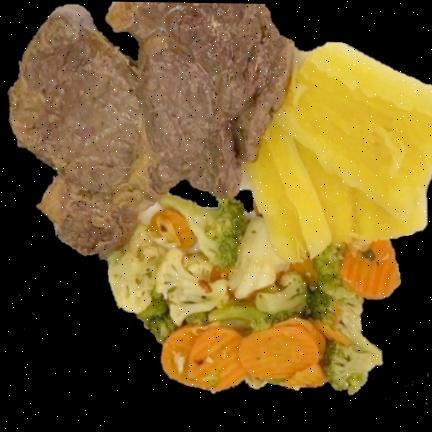broccoli: (202, 241, 387, 393), (156, 191, 250, 270)
carrot: (161, 318, 347, 392), (345, 239, 402, 300)
cassava: (246, 49, 432, 259)
cauliflower: (111, 216, 294, 323)
meat: (11, 2, 303, 255)
